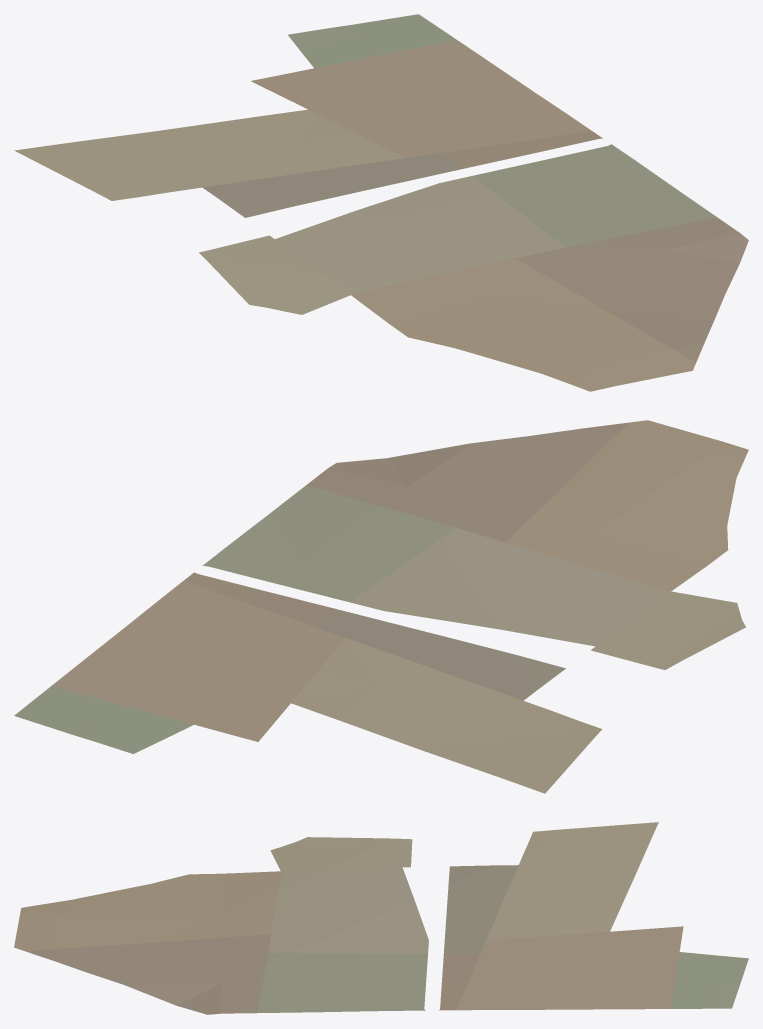
The model's file is farm_8_12_soil.glb.
The picture shows the model from 3 angles, top to bottom: view 1: azimuth 30°, elevation 25°; view 2: azimuth 150°, elevation 25°; view 3: azimuth 270°, elevation 25°; orthographic projection. The views are drawn at different scales.
Parts seen in each view (by area): view 1: geometry_0; view 2: geometry_0; view 3: geometry_0.
Boxes of the visible parts, x1,y1,x2,y2 form: geometry_0: [14, 14, 748, 391]; geometry_0: [14, 420, 748, 793]; geometry_0: [14, 822, 748, 1014].
Size of the model in its own units: 216 by 3.76 by 355.
